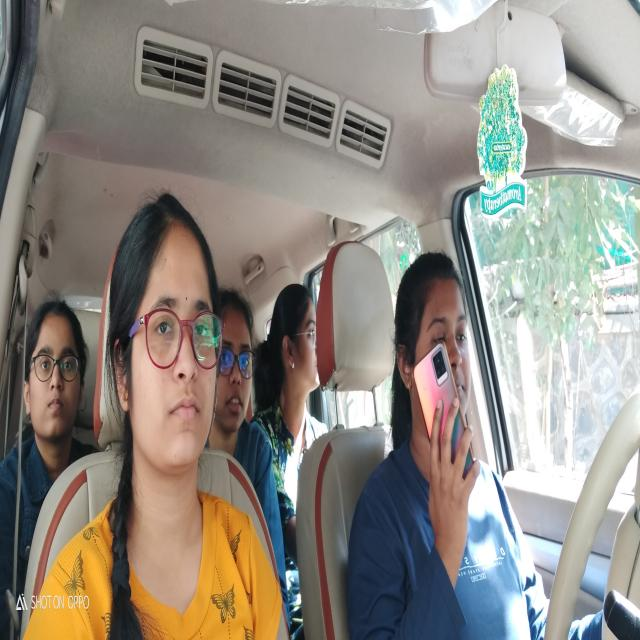mobile: (408, 355, 479, 490)
person: (108, 219, 220, 468), (397, 259, 474, 436), (22, 309, 86, 439), (275, 284, 321, 429), (217, 280, 255, 437)
